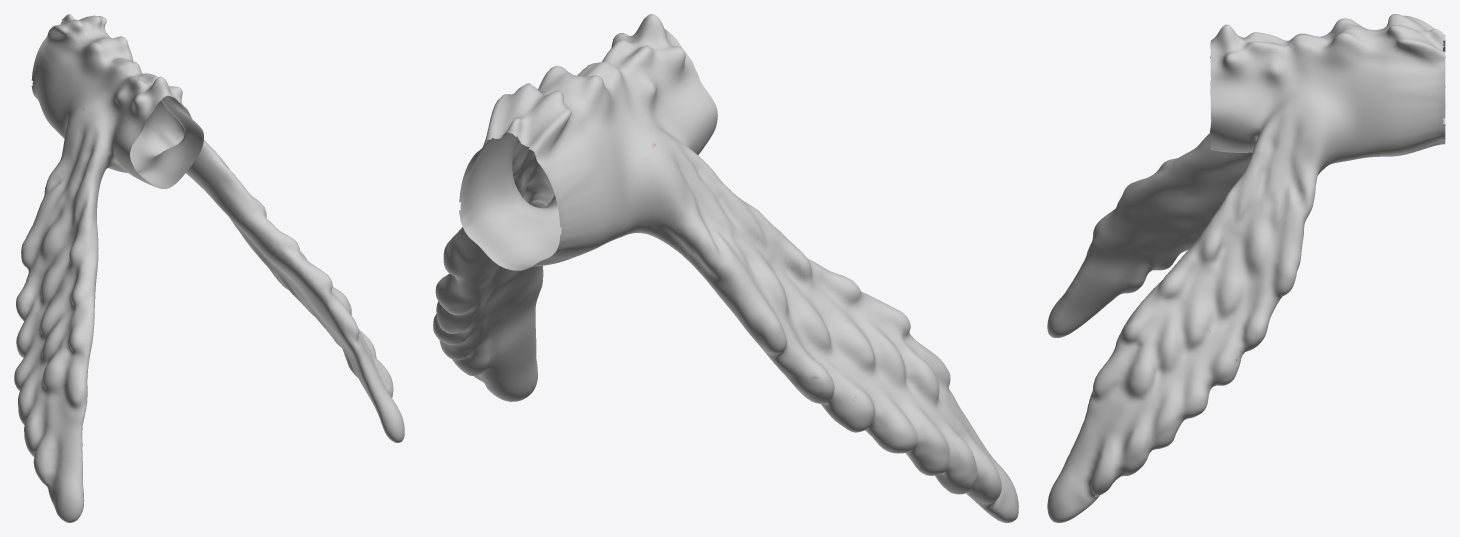
The model's file is bodyPart03-5.gltf.
3 renders of one model, left to right at view 1: azimuth 30°, elevation 25°; view 2: azimuth 150°, elevation 25°; view 3: azimuth 270°, elevation 25°, orthographic. The views are drawn at different scales.
Visible parts, largest first — view 1: bodyPart03.5; view 2: bodyPart03.5; view 3: bodyPart03.5.
Part boxes in pixels (box(x1,y1,x2,y2)): bodyPart03.5: box(14, 14, 404, 522); bodyPart03.5: box(433, 14, 1018, 522); bodyPart03.5: box(1047, 14, 1445, 522).
Bounding box in the file's own units: 1.96 × 1.87 × 1.65.
Materials: 1 (1 with a texture image).
